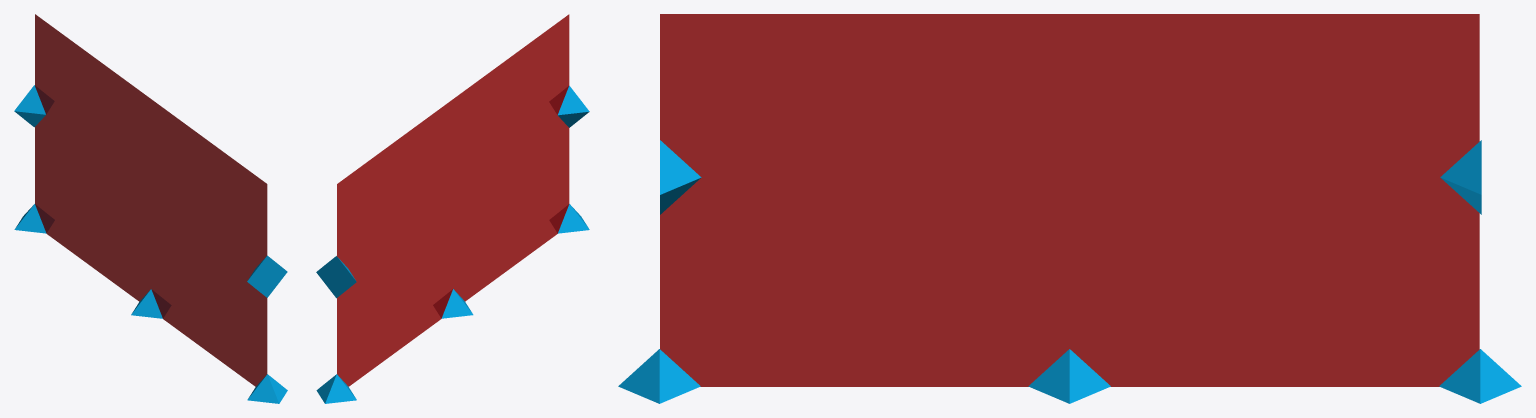
The model's file is Wall_01.fbx.
3 views of the same model, side by side, from view 1: azimuth 30°, elevation 25°; view 2: azimuth 150°, elevation 25°; view 3: azimuth 270°, elevation 25° (orthographic). The views are drawn at different scales.
Parts seen in each view (by area): view 1: Wall1; view 2: Wall1; view 3: Wall1.
Part boxes in pixels (box(x1,y1,x2,y2)): Wall1: box(14, 14, 287, 403); Wall1: box(316, 14, 589, 403); Wall1: box(618, 14, 1521, 403).
Size of the model in its own units: 1.41 by 7.01 by 15.39.
